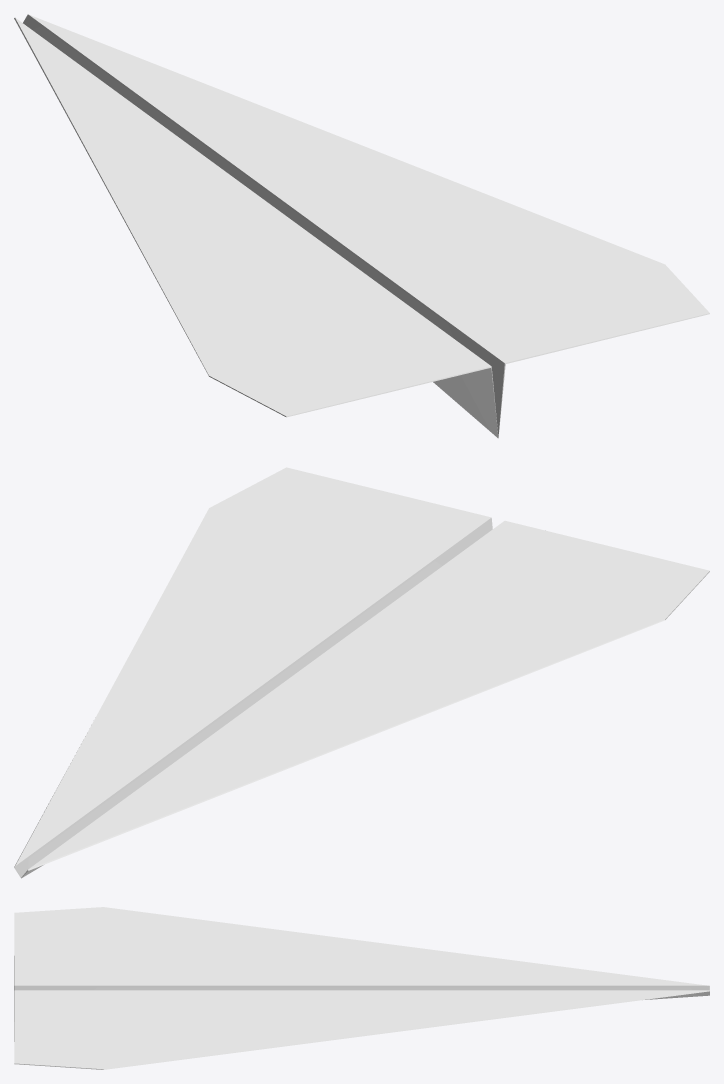
File: Paper-plane.fbx
The picture shows the model from 3 angles, top to bottom: view 1: azimuth 30°, elevation 25°; view 2: azimuth 150°, elevation 25°; view 3: azimuth 270°, elevation 25°; orthographic projection. The views are drawn at different scales.
Visible parts, largest first — view 1: Paper_plane; view 2: Paper_plane; view 3: Paper_plane.
Boxes of the visible parts, bbox=[...] form: Paper_plane: bbox=[14, 14, 709, 438]; Paper_plane: bbox=[14, 467, 709, 878]; Paper_plane: bbox=[14, 907, 709, 1069].
Bounding box in the file's own units: 495 × 76.5 × 897.
Materials: 1 (1 with a texture image).
